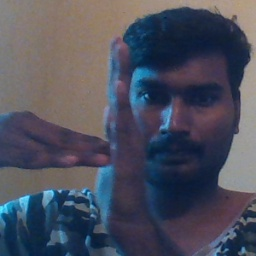Z: (29, 37, 152, 229)
